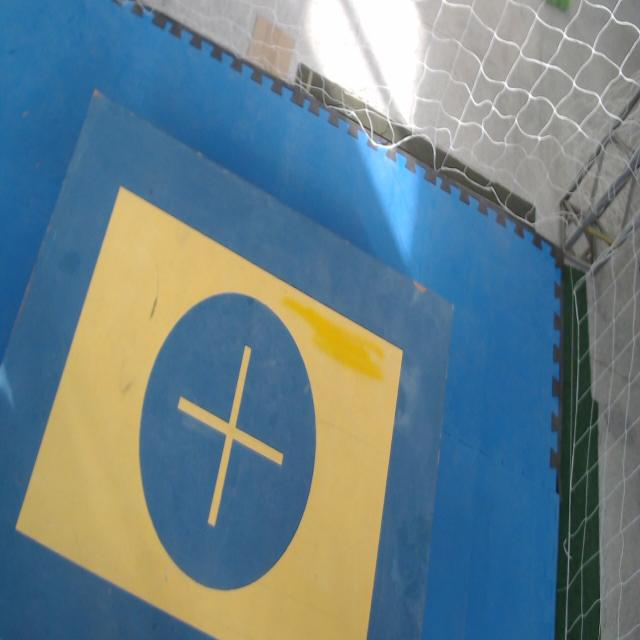base_inicio: (16, 188, 404, 639)
